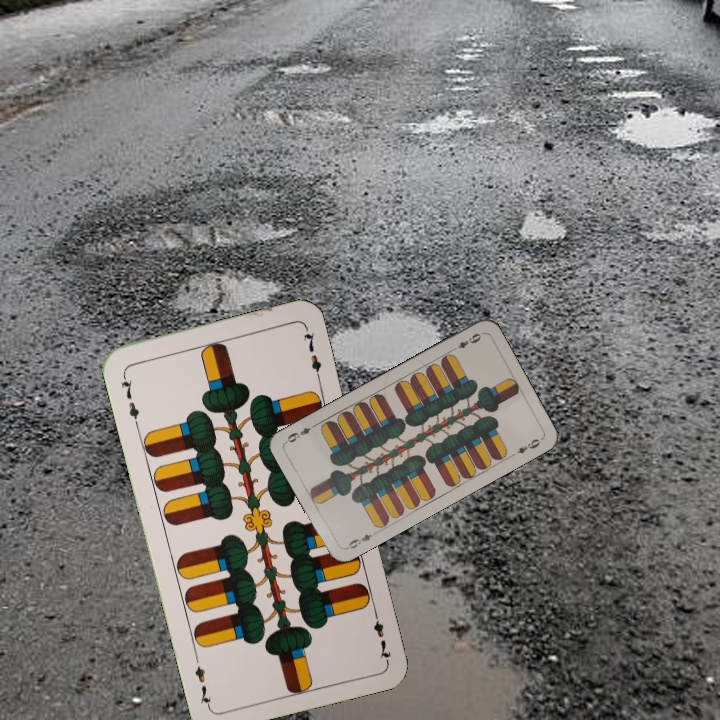E7: (117, 369, 142, 428), (369, 605, 394, 663)
E9: (448, 329, 485, 354), (342, 528, 379, 552)
